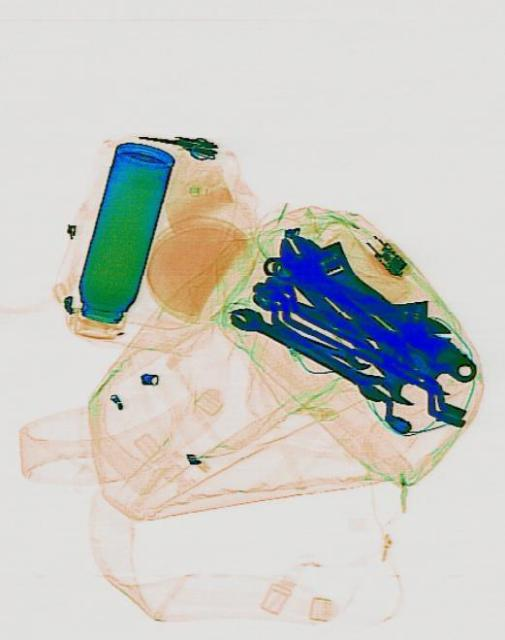Wrench: (268, 210, 487, 398), (225, 300, 372, 392), (349, 326, 426, 414)
